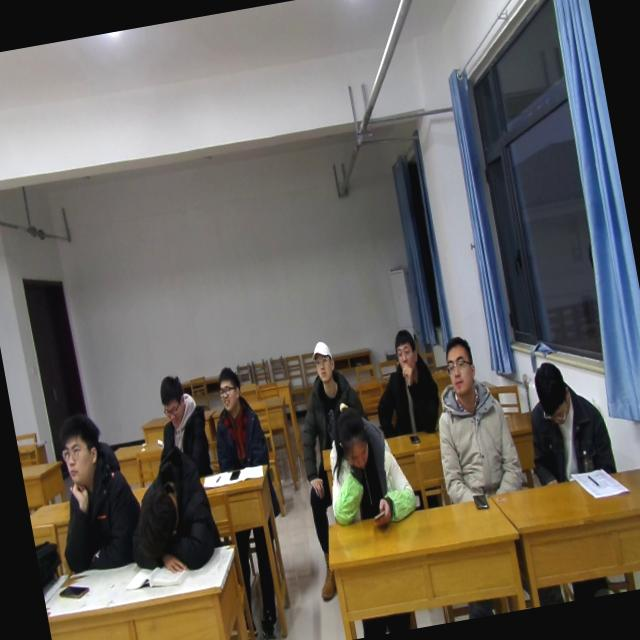bow: (112, 429, 230, 582), (312, 386, 422, 536)
down: (523, 349, 577, 429), (329, 395, 376, 476), (152, 368, 194, 434)
lookup: (50, 405, 109, 496), (435, 328, 482, 400), (385, 320, 425, 380), (208, 356, 248, 413), (304, 331, 338, 386)
sit: (416, 325, 527, 509), (36, 402, 152, 578), (515, 348, 620, 490), (361, 320, 447, 446), (286, 334, 370, 452), (140, 368, 218, 485), (201, 360, 271, 472)
